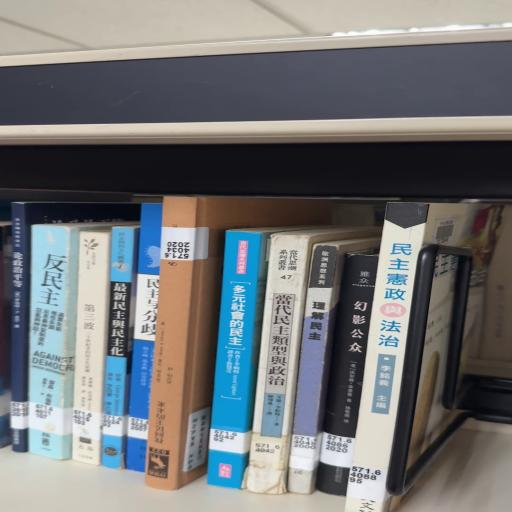reverse: (147, 198, 332, 491)
